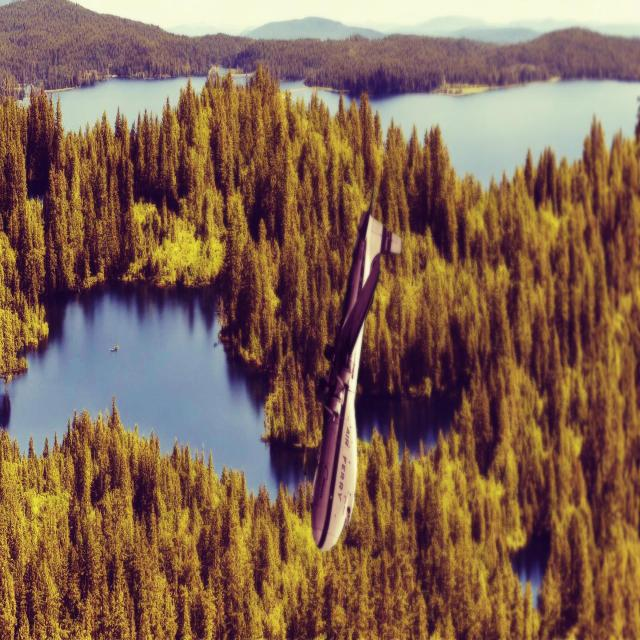airplane: (310, 182, 402, 552)
